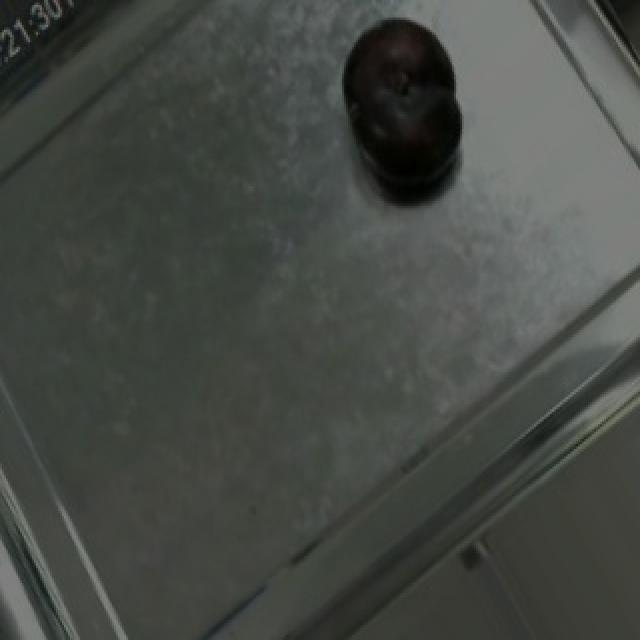Fruit: (318, 0, 486, 203)
